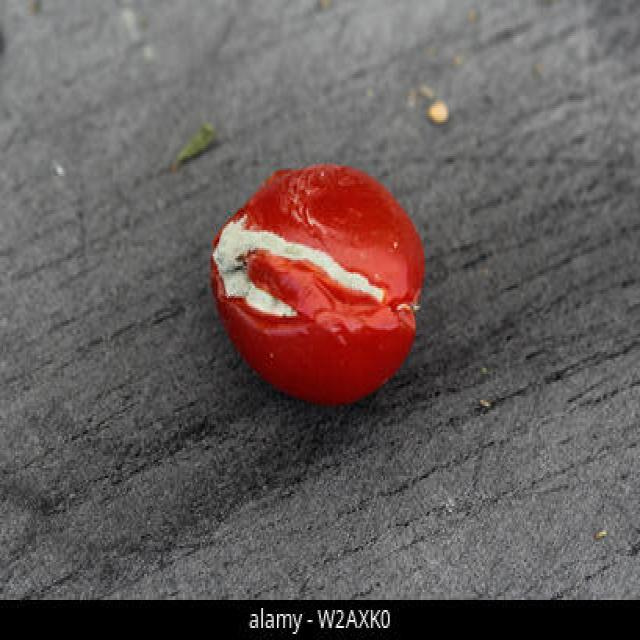Rotten: (208, 159, 425, 406)
